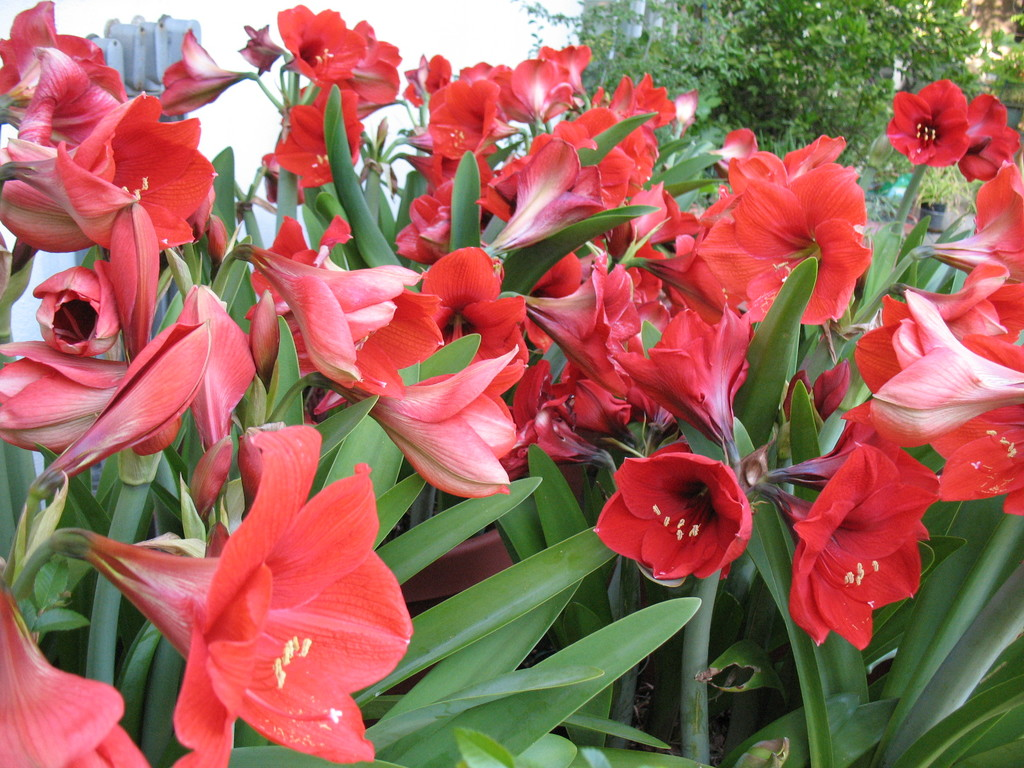face: (34, 266, 113, 359)
